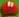red: (0, 0, 19, 17)
